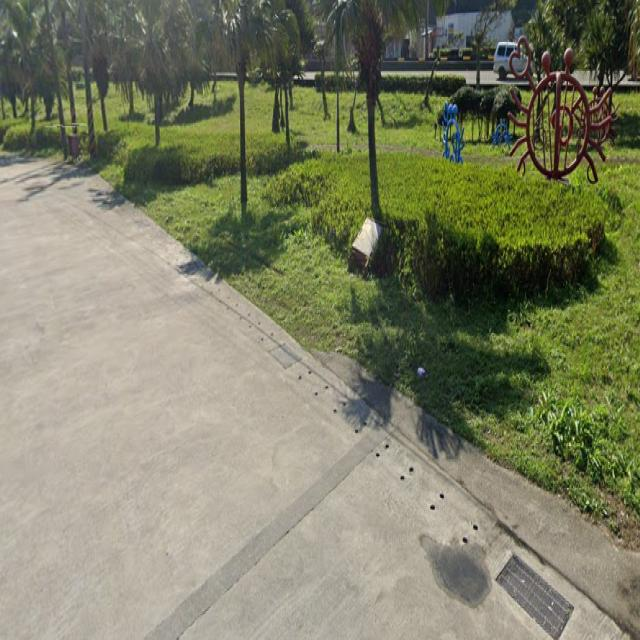pollute: (348, 211, 385, 271), (415, 366, 426, 378)
